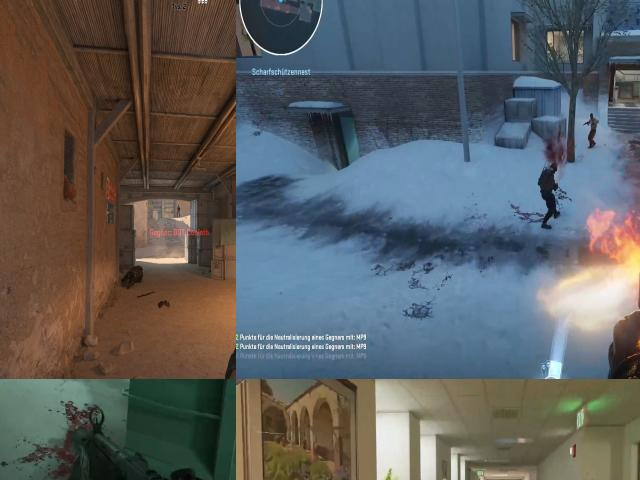CT: (177, 204, 180, 218)
CT-Head: (178, 204, 179, 206)
Dead: (536, 164, 560, 223), (121, 266, 145, 290)
T: (587, 112, 600, 150)
T-Head: (585, 111, 596, 122)
